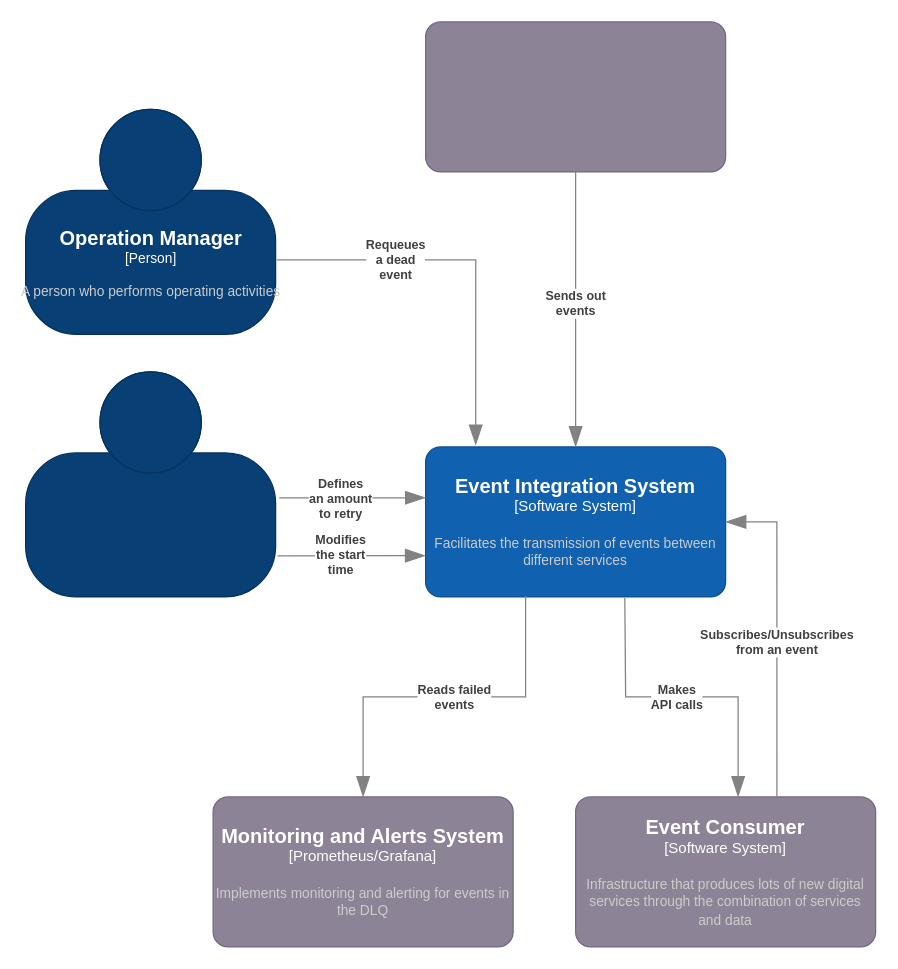
Image size: 898x969. Some labels were removed from this diagram. Here are the shapes that lost their labels. From the top down, the centre of each, then its label:
point 575,96: Event Producer [Software System] Produces events as they occur
point 150,484: Configuration Manager [Person] A person who manages data settings
